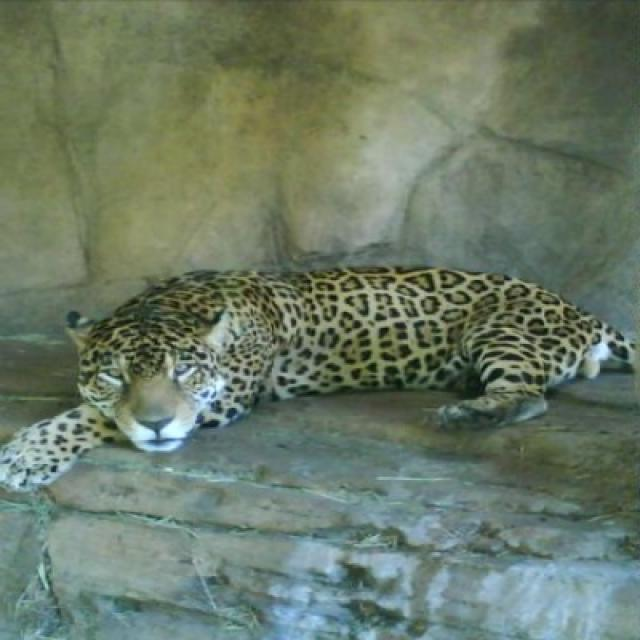Jaguar: (0, 266, 634, 494)
